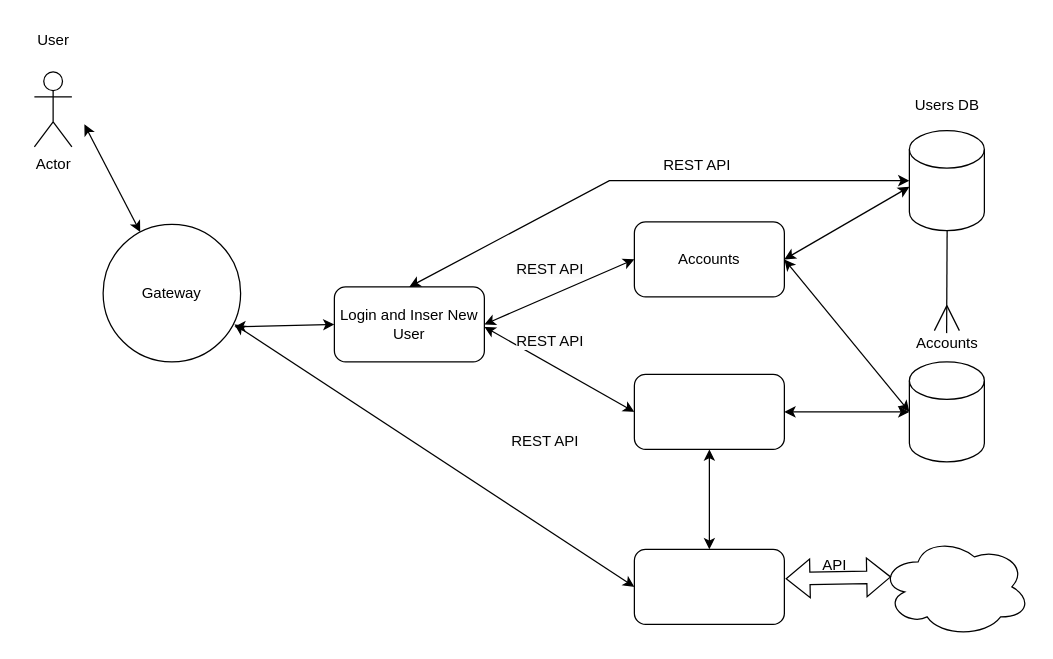
This 1053x659 diagram has some shape labels left out. Here are the shapes that lost their labels. From the top down, the box of each, then its label:
(633, 373, 784, 449): Transfer between accounts
(633, 548, 784, 624): Exchange
